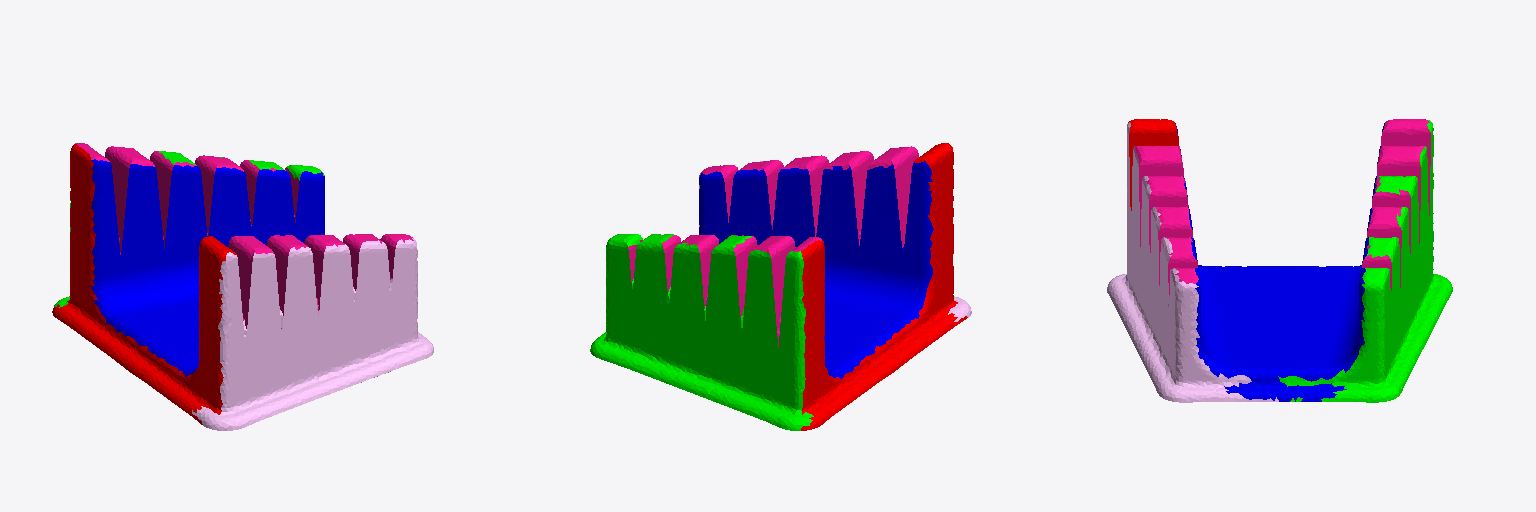
Rendered from model_34757_segmented.obj.
3 renders of one model, left to right at view 1: azimuth 30°, elevation 25°; view 2: azimuth 150°, elevation 25°; view 3: azimuth 270°, elevation 25°, orthographic.
Bounding box in the file's own units: 56.54 × 36.18 × 66.89.